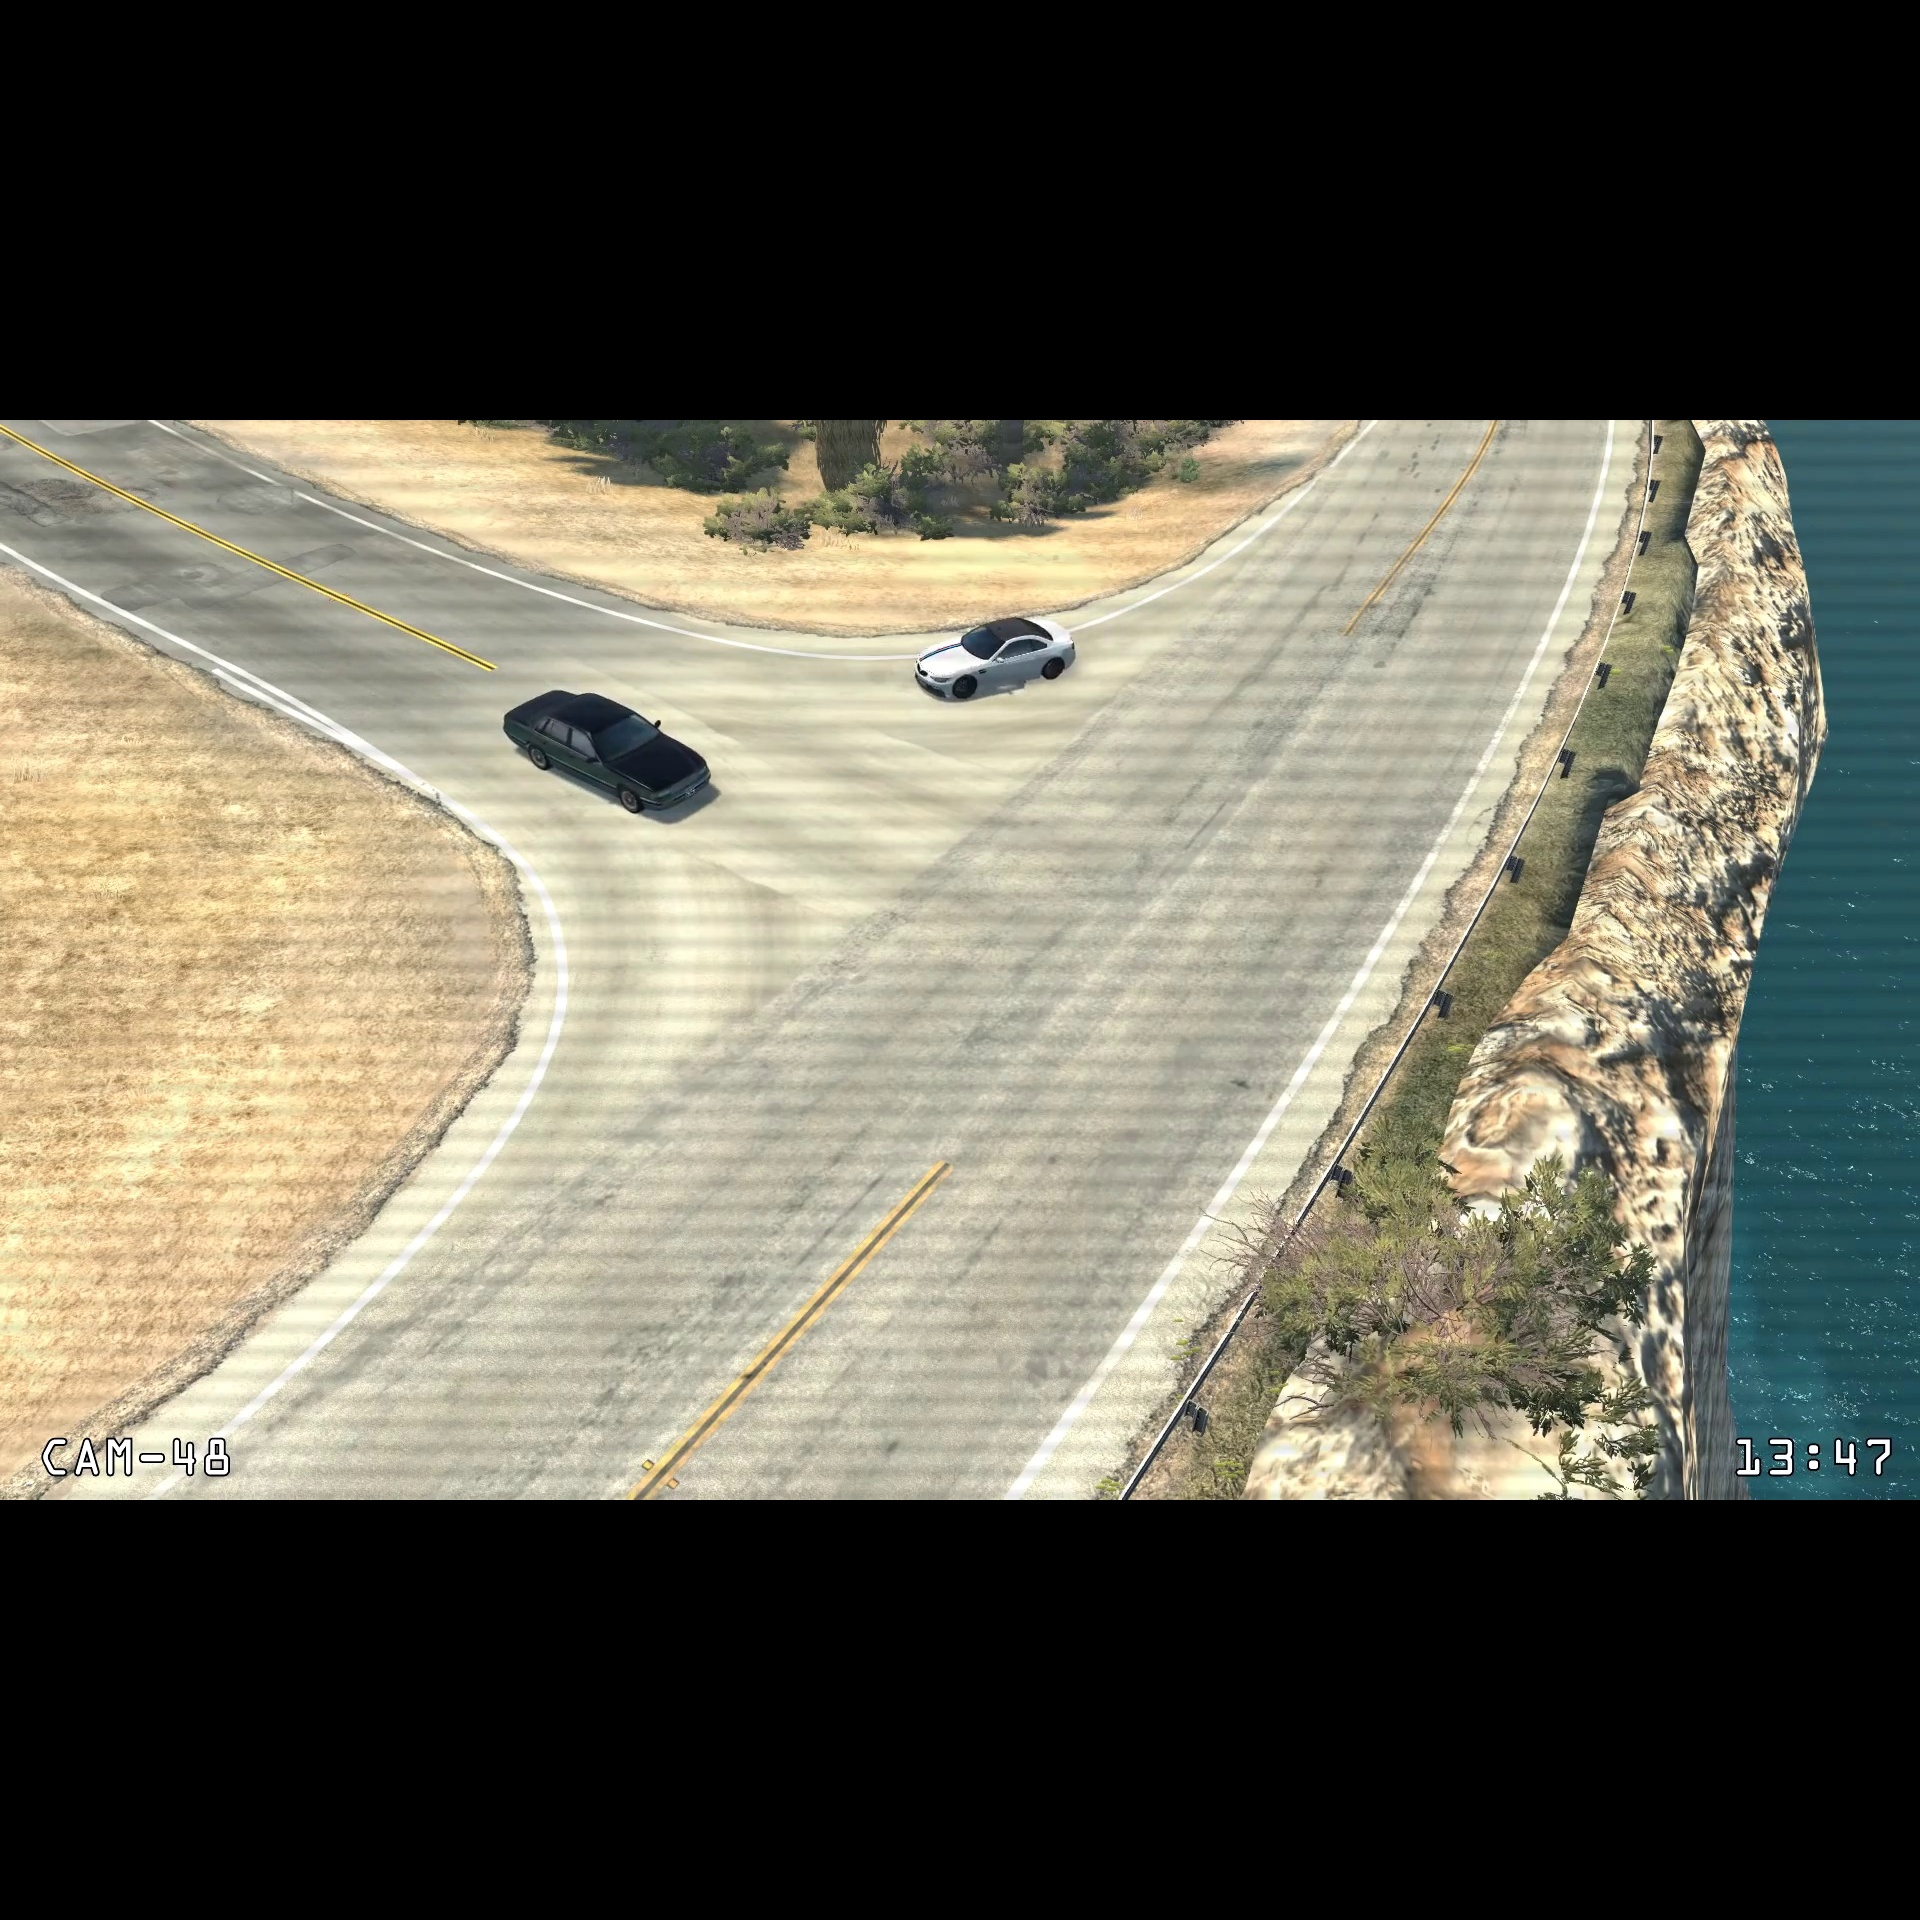vehicle: (492, 682, 714, 819), (907, 610, 1085, 709)
